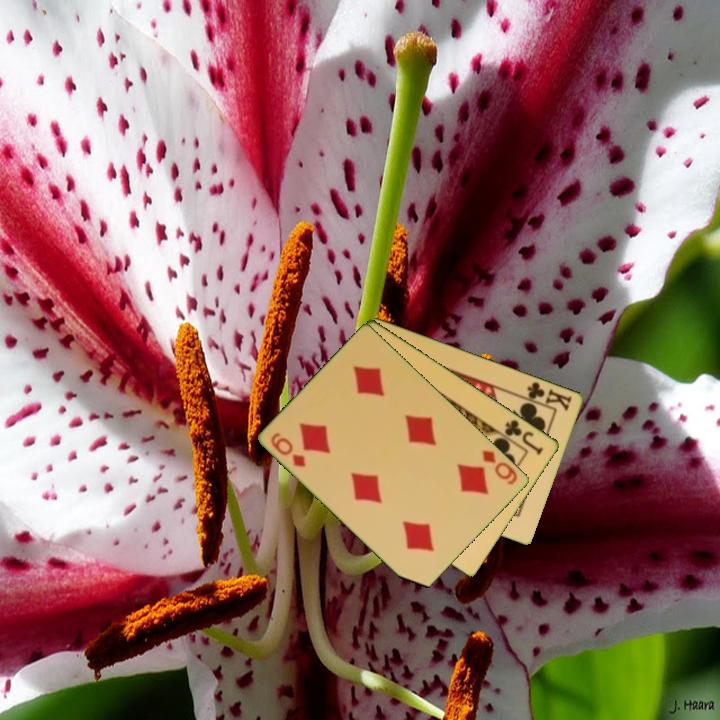6d: (479, 446, 521, 488), (268, 429, 309, 470)
Jc: (501, 416, 547, 458)
Kc: (519, 378, 575, 414)
